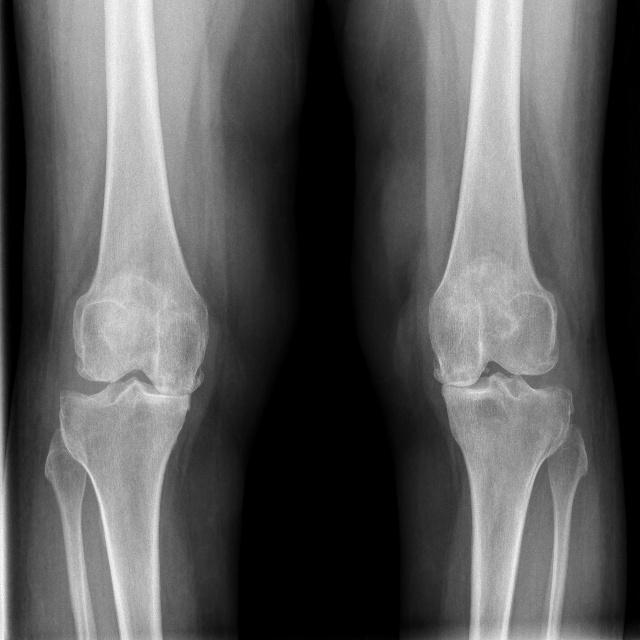Knee: (55, 283, 211, 452), (423, 296, 575, 453)
